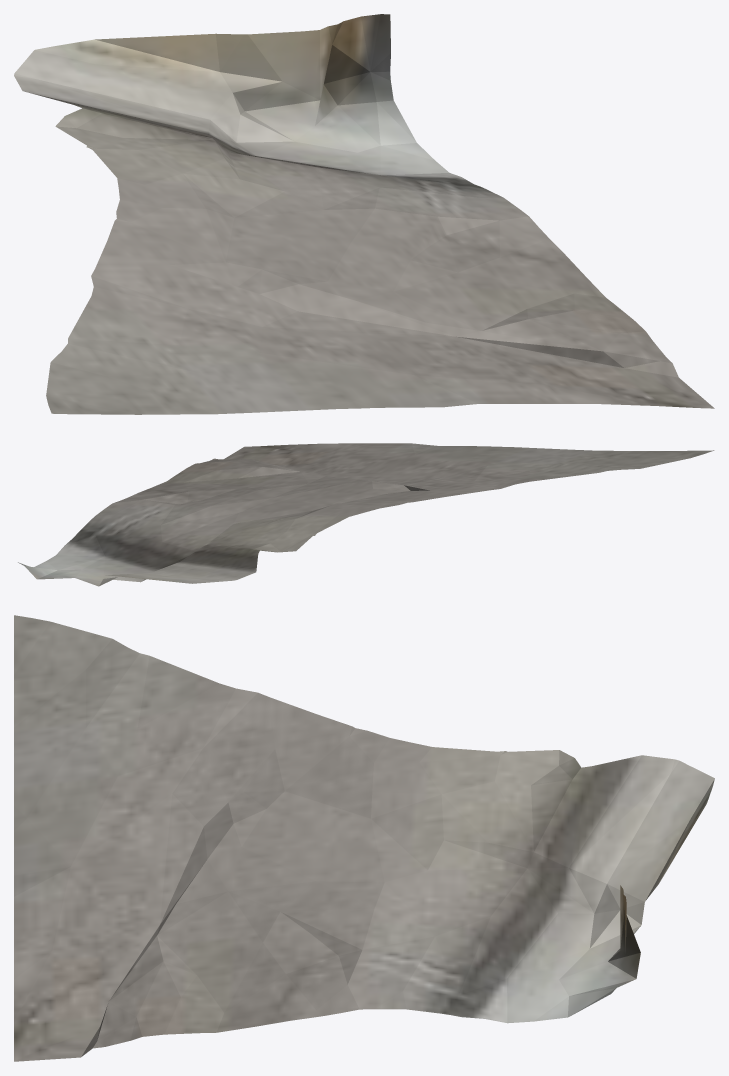
3 views of the same model, one above another, from view 1: azimuth 30°, elevation 25°; view 2: azimuth 150°, elevation 25°; view 3: azimuth 270°, elevation 25° (orthographic). The views are drawn at different scales.
Size of the model in its own units: 3.07 by 0.693 by 3.02.
1 material, 1 textured.
